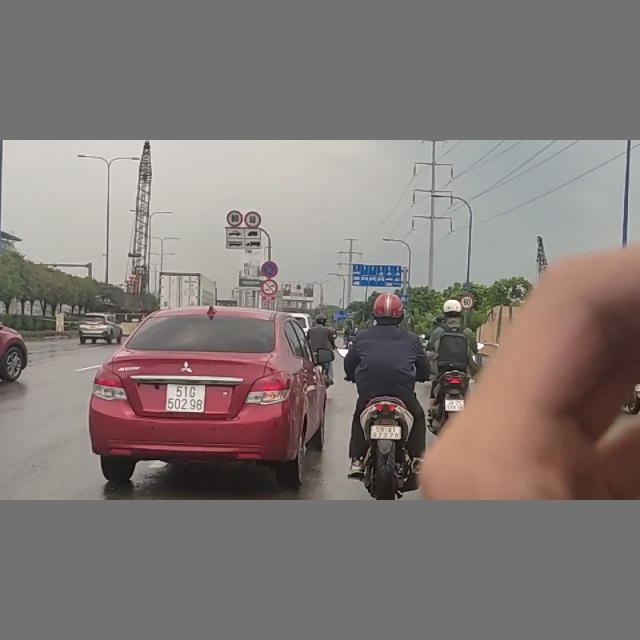P.130: (260, 261, 278, 277)
